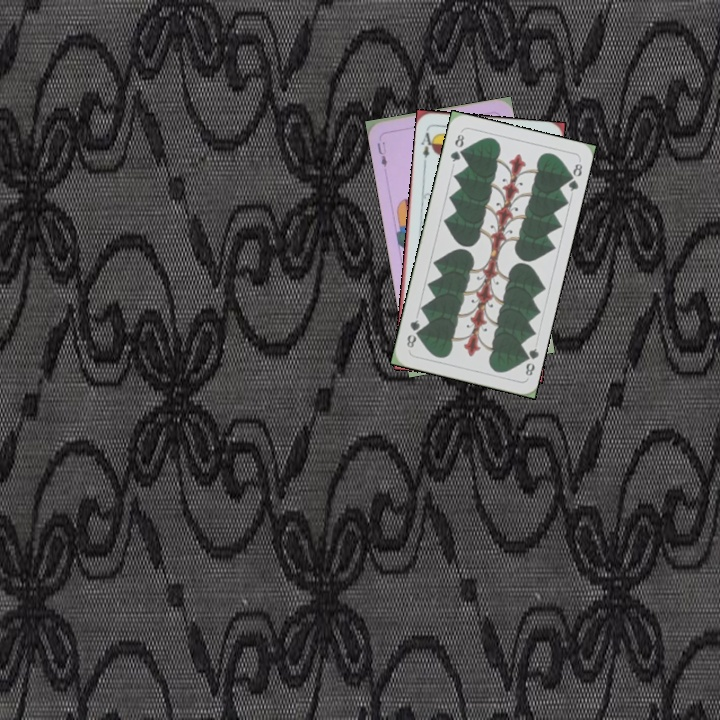EA: (417, 129, 438, 160)
EU: (373, 139, 390, 169)
G8: (518, 344, 541, 379), (446, 130, 467, 165)
